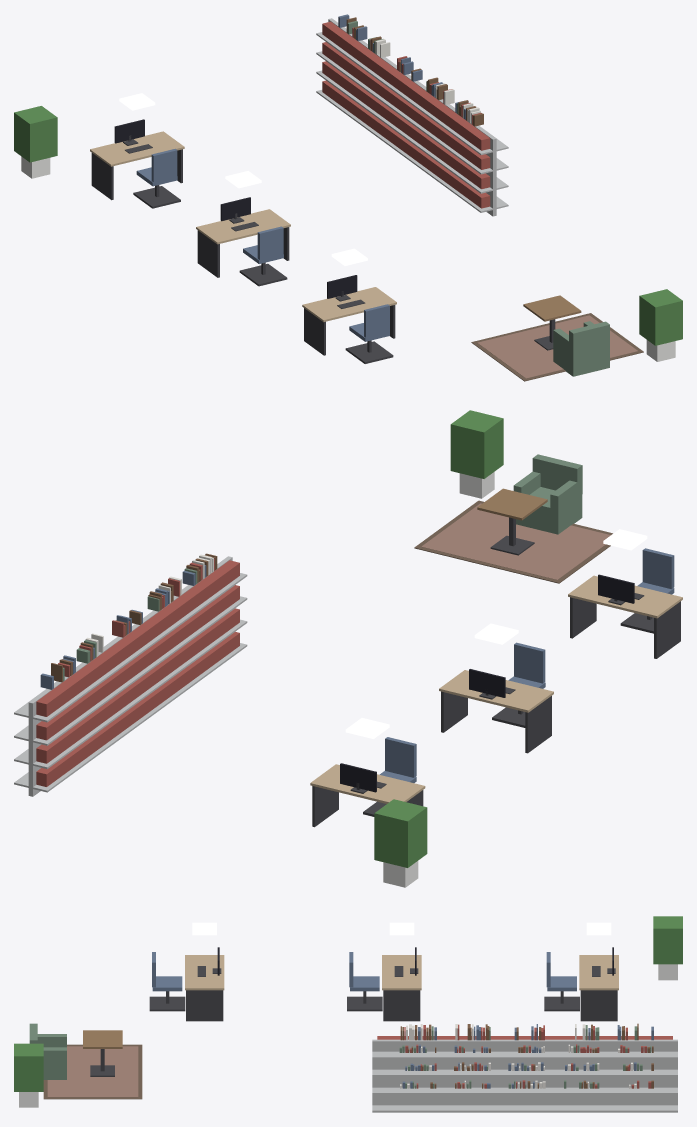
The model's file is fine-s2.glb.
The picture shows the model from 3 angles, top to bottom: view 1: azimuth 30°, elevation 25°; view 2: azimuth 150°, elevation 25°; view 3: azimuth 270°, elevation 25°; orthographic projection. The views are drawn at different scales.
Visible parts, largest first — view 1: soft-s2, shelving.010, shelving.006, shelving.009, shelving.007, office-desk-real.004, office-desk-real.003, office-desk-real.005, shelving.008, plant-medium.003, plant-medium.002, sofa.001 (+4 smaller); view 2: soft-s2, shelving.006, shelving.008, shelving.010, office-desk-real.004, office-desk-real.005, shelving.009, plant-medium.003, plant-medium.002, sofa.001, shelving.007, office-desk-real.003 (+4 smaller); view 3: soft-s2, shelving.006, shelving.009, shelving.010, shelving.008, shelving.007, office-desk-real.005, office-desk-real.003, office-desk-real.004, plant-medium.002, plant-medium.003, sofa.001 (+7 smaller).
Part boxes in pixels (x1,y1,x2,y2): soft-s2: (338,14,643,381); shelving.010: (433,105,508,216); shelving.006: (316,18,391,126); shelving.009: (404,82,463,190); shelving.007: (345,43,418,147); office-desk-real.004: (196,197,290,277); office-desk-real.003: (90,119,184,200); office-desk-real.005: (302,275,396,355); shelving.008: (374,61,432,169); plant-medium.003: (14,106,57,178); plant-medium.002: (639,289,682,361); sofa.001: (553,321,609,376); soft-s2: (40,500,612,689); shelving.006: (14,661,105,796); shelving.008: (103,610,176,738); shelving.010: (173,556,247,688); office-desk-real.004: (439,669,553,753); office-desk-real.005: (568,574,682,658); shelving.009: (132,584,211,712); plant-medium.003: (374,799,427,887); plant-medium.002: (450,410,503,498); sofa.001: (513,454,582,534); shelving.007: (68,636,140,764); office-desk-real.003: (310,763,425,827); soft-s2: (43,1023,653,1099); shelving.006: (589,1036,677,1112); shelving.009: (426,1036,515,1112); shelving.010: (372,1036,460,1112); shelving.008: (480,1036,569,1112); shelving.007: (535,1036,623,1112); office-desk-real.005: (185,947,224,1021); office-desk-real.003: (579,947,618,1021); office-desk-real.004: (382,947,421,1021); plant-medium.002: (14,1043,43,1107); plant-medium.003: (653,916,682,980); sofa.001: (29,1023,66,1079).
Size of the model in its own units: 7.12 by 1.93 by 13.56.
